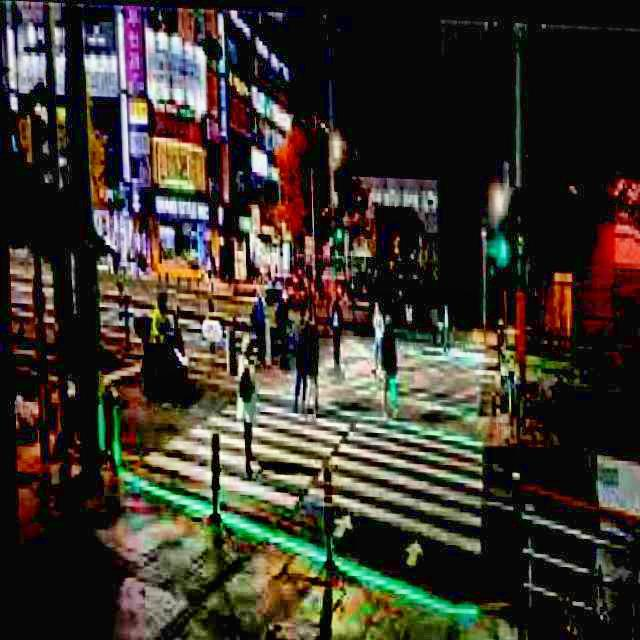semaforo pedestre: (464, 194, 566, 341)
